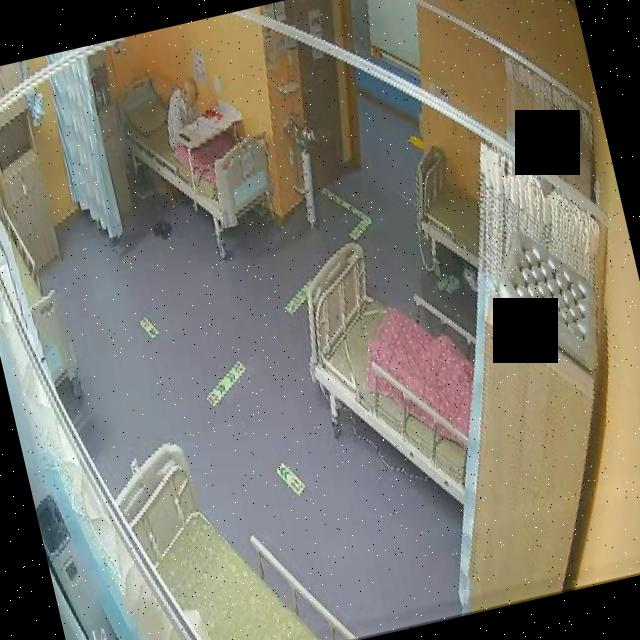bed: (290, 223, 500, 524), (104, 409, 356, 640), (111, 56, 282, 246), (402, 140, 494, 280)
patient: (153, 74, 211, 154)
sit: (152, 74, 210, 153)
